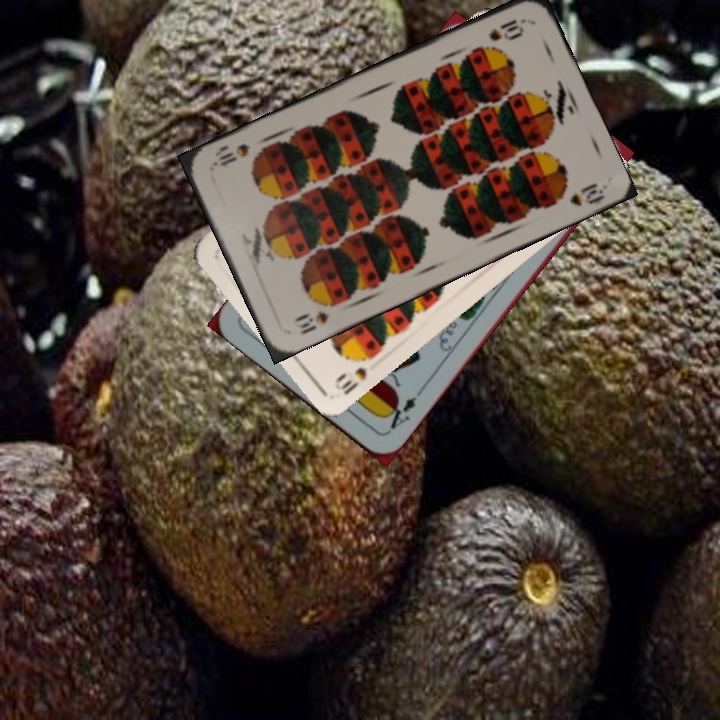EA: (380, 392, 420, 435)
S10: (330, 350, 378, 398), (290, 306, 333, 337), (485, 14, 528, 44)
